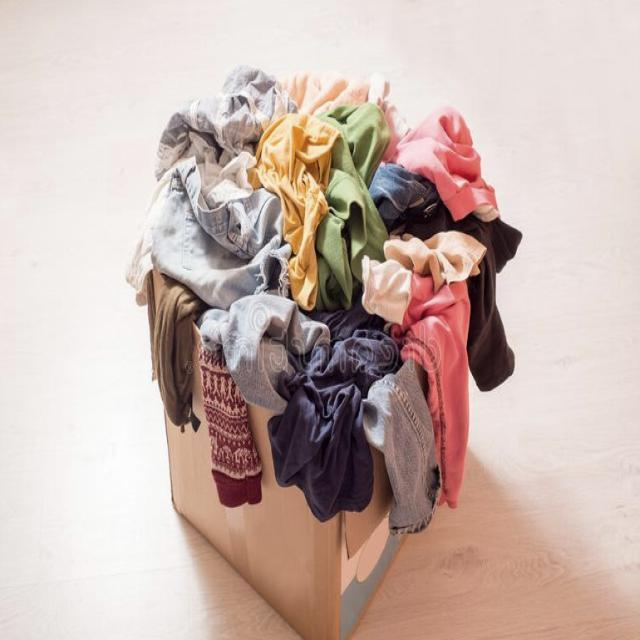clothes: (108, 100, 521, 594)
